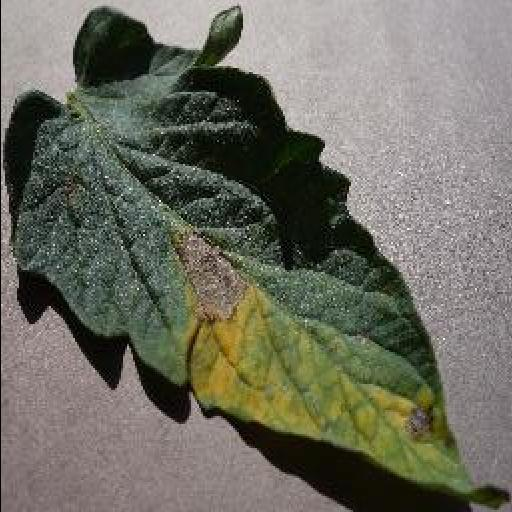disease_tomato: (12, 2, 502, 512)
